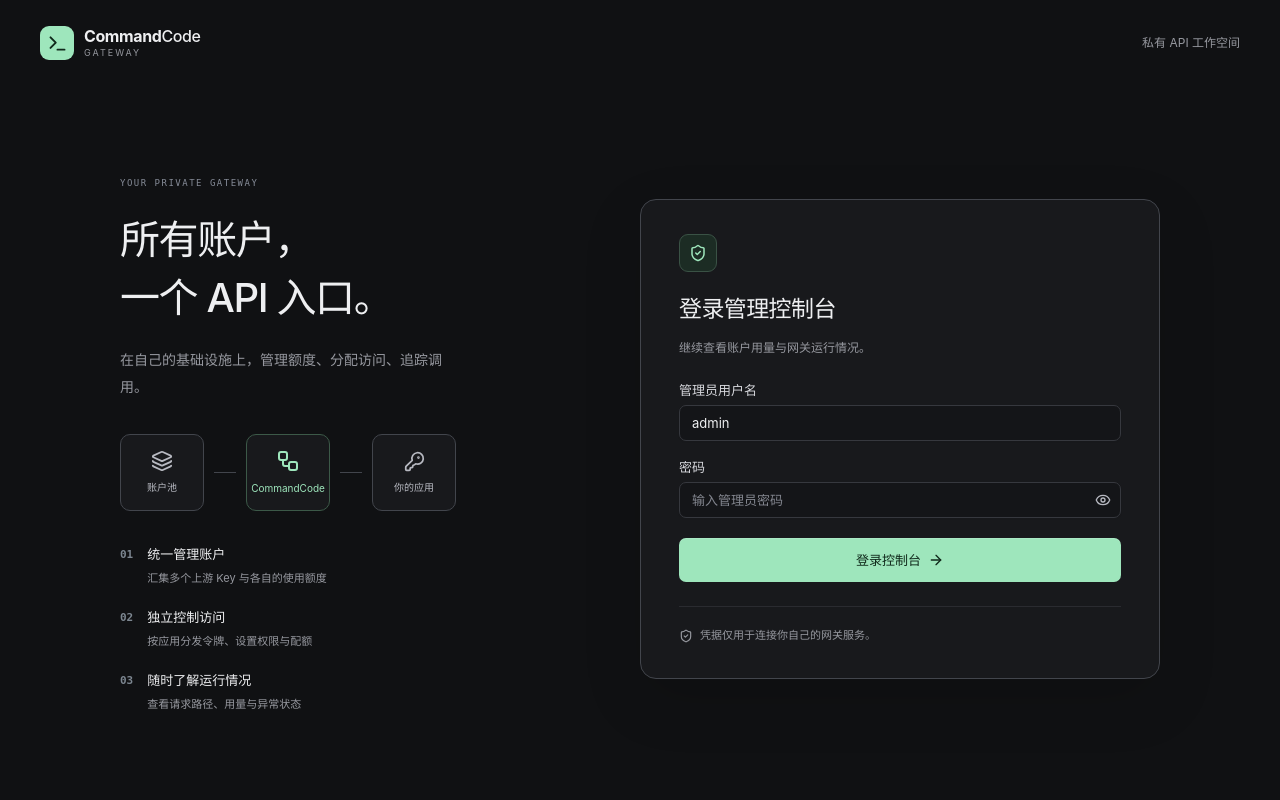
it: administrator session flow › keeps a rejected login actionable and shows the actual server error
Type "wrong-password" into the password field labelled "密码" at (900, 500), box 679,482 -> 1121,518
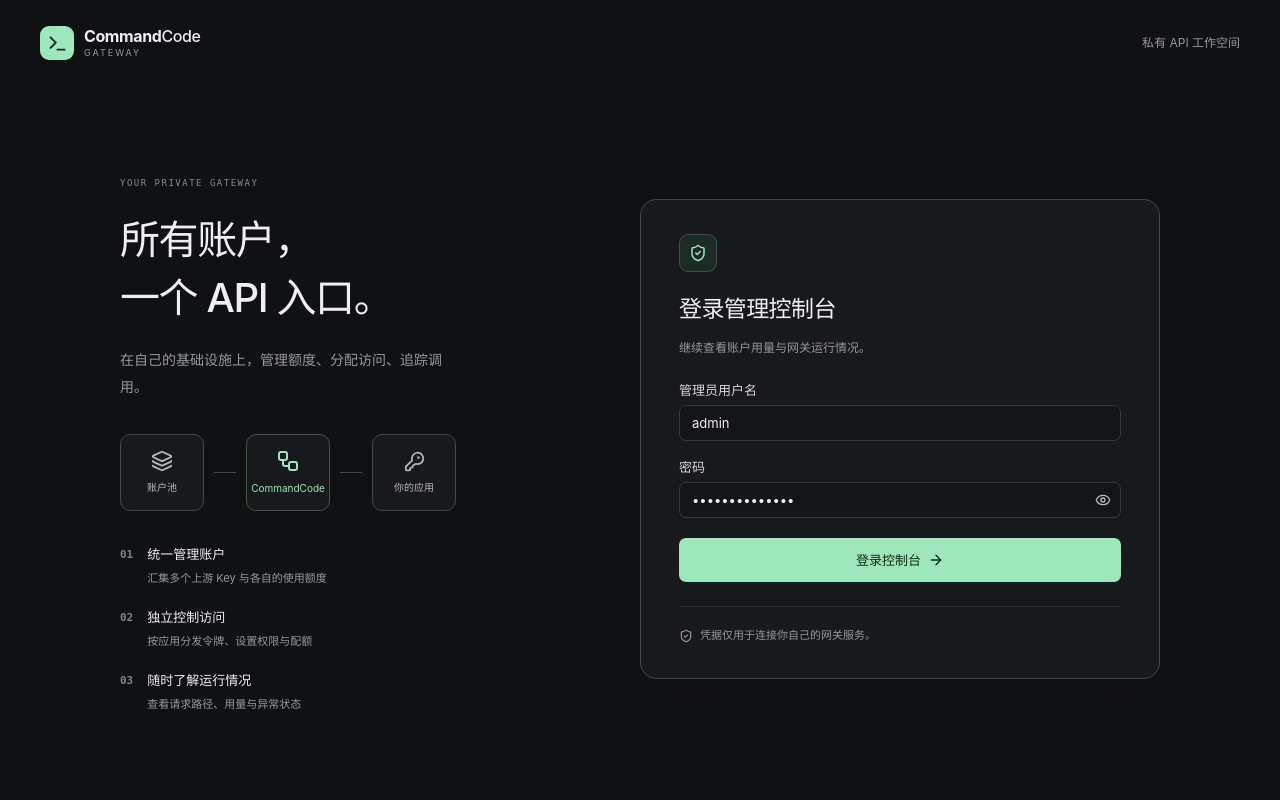
Click the button "登录控制台" at (900, 560), box 679,538 -> 1121,582
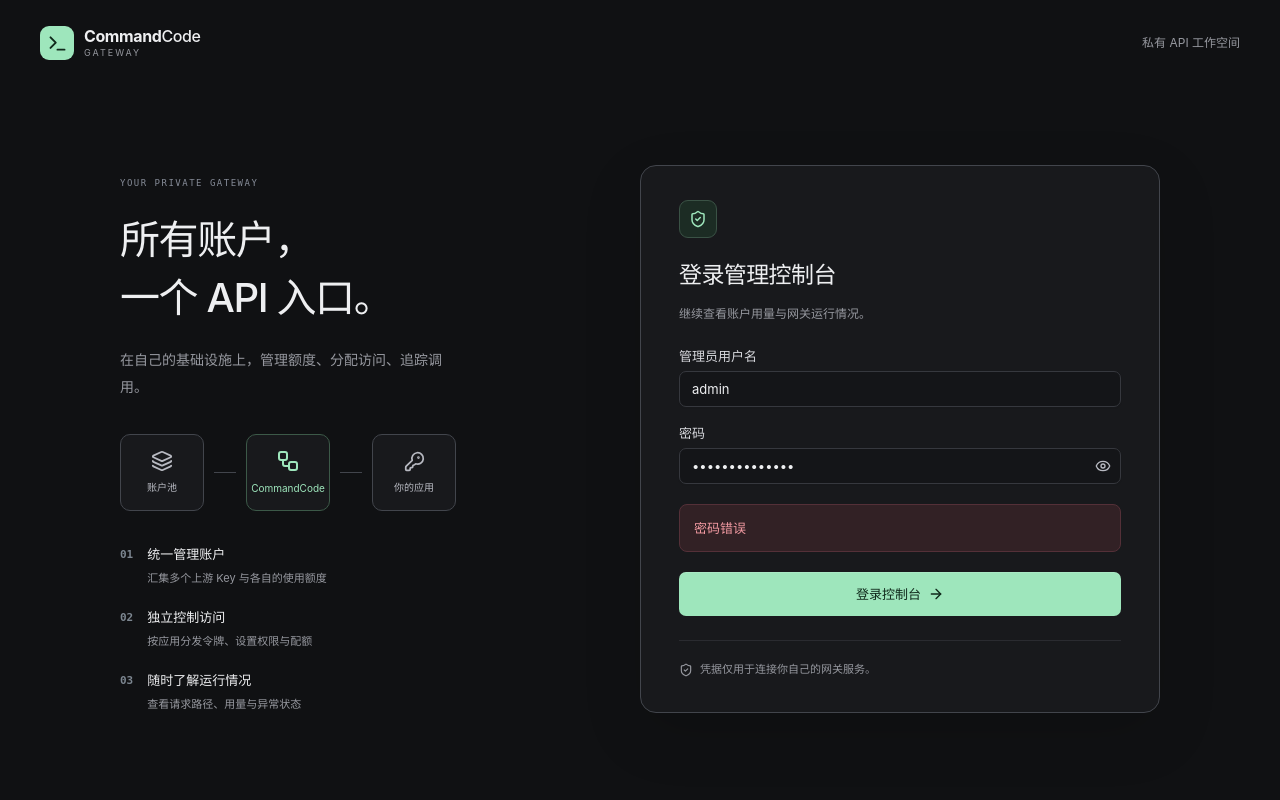
Expected: the button "登录控制台" is enabled, 679,572 -> 1121,616
Expected: the message reads "密码错误", 694,520 -> 746,536
